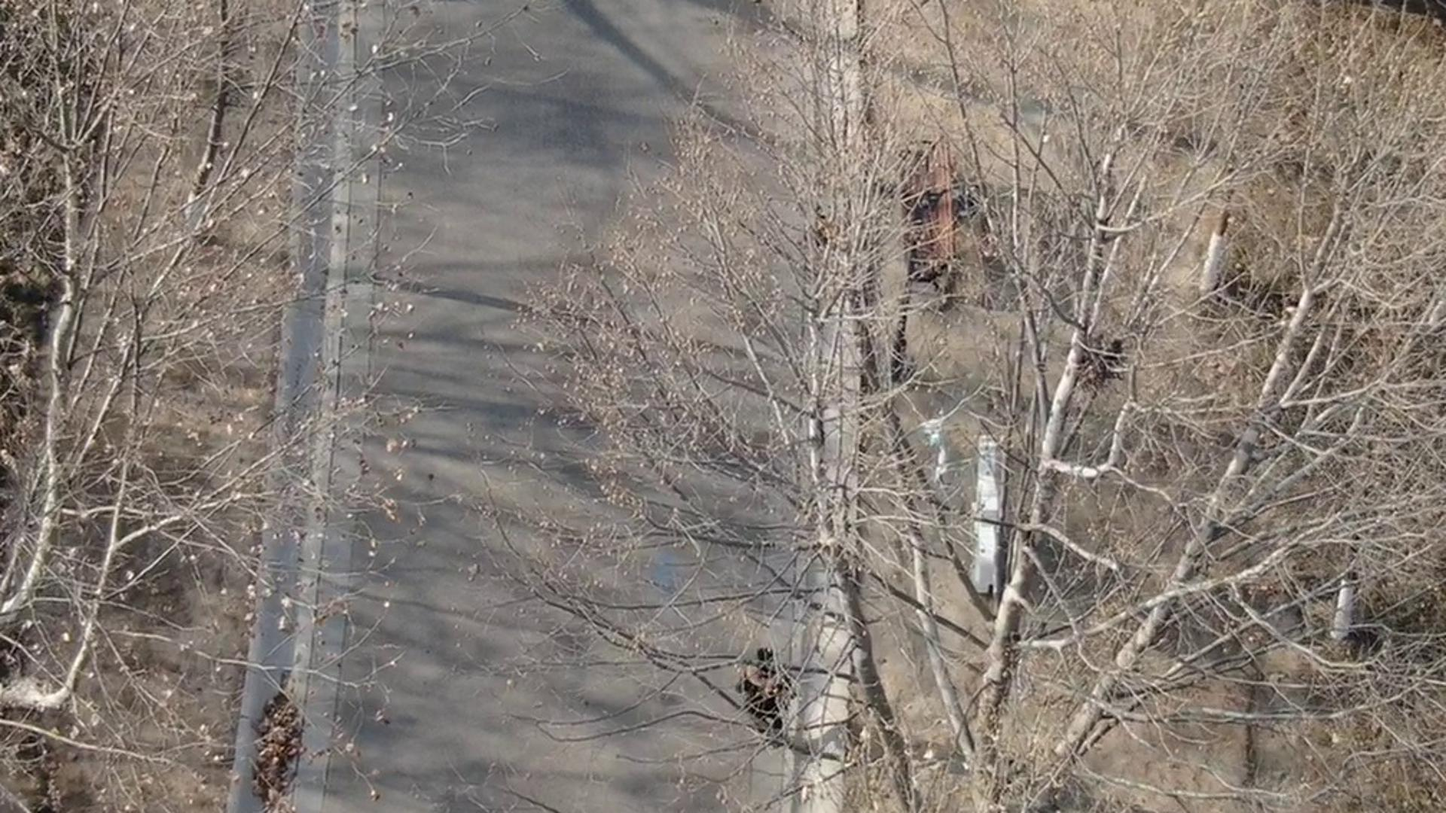human: (747, 631, 792, 760)
